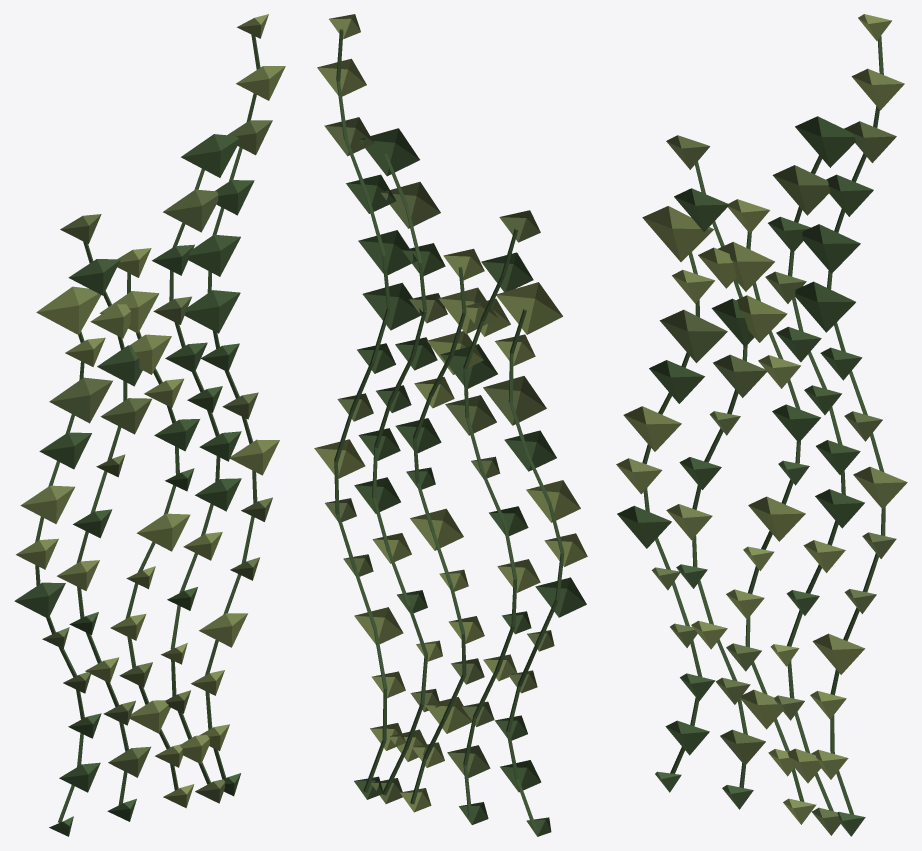
The model's file is Ivy_Long.fbx.
3 renders of one model, left to right at view 1: azimuth 30°, elevation 25°; view 2: azimuth 150°, elevation 25°; view 3: azimuth 330°, elevation 25°, orthographic. The views are drawn at different scales.
Parts seen in each view (by area): view 1: Ivy_Long; view 2: Ivy_Long; view 3: Ivy_Long.
Part boxes in pixels (<box>): Ivy_Long: <box>14,14,285,836</box>; Ivy_Long: <box>314,14,587,836</box>; Ivy_Long: <box>616,14,907,836</box>.
Bounding box in the file's own units: 1.05 × 2.9 × 0.1063.
